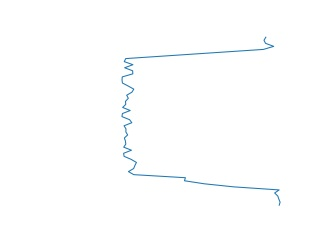distributaryChannelFill: (115, 35, 289, 207)
